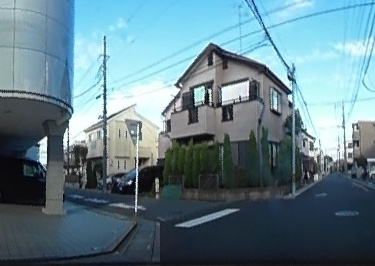person: (301, 166, 309, 186)
